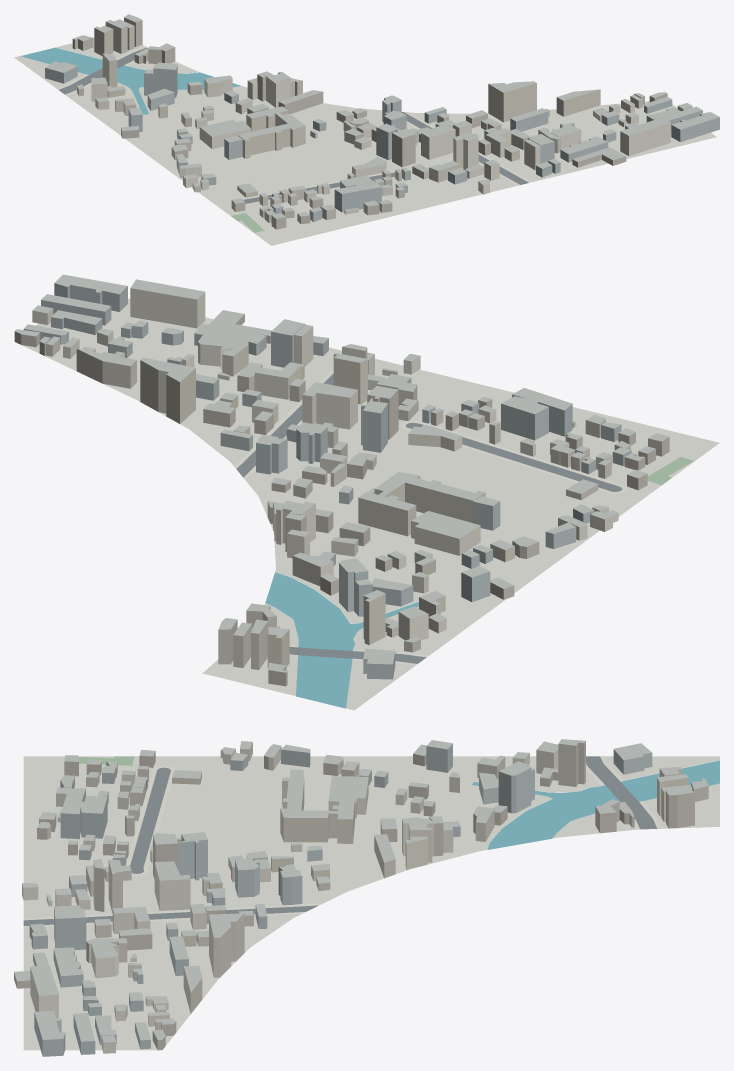
3 views of the same model, one above another, from view 1: azimuth 30°, elevation 25°; view 2: azimuth 150°, elevation 25°; view 3: azimuth 270°, elevation 25° (orthographic). The views are drawn at different scales.
Visible parts, largest first — view 1: city; view 2: city; view 3: city.
Boxes of the visible parts, left/top/right/bottom form: city: left=14, top=14, right=719, bottom=245; city: left=14, top=274, right=719, bottom=710; city: left=14, top=739, right=719, bottom=1056.
Bounding box in the file's own units: 517 × 34.28 × 507.
